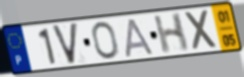1: (38, 27, 58, 67)
A: (125, 17, 156, 59)
H: (152, 11, 191, 56)
O: (90, 20, 120, 60)
V: (49, 21, 79, 67)
X: (183, 8, 220, 53)
